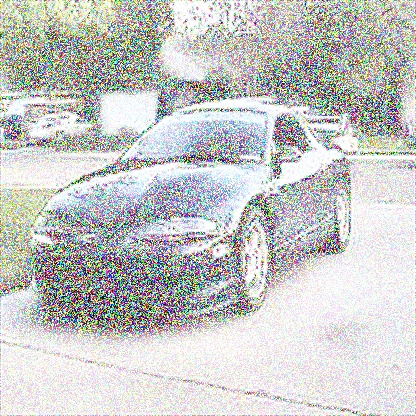Vehicle: (27, 100, 357, 312)
